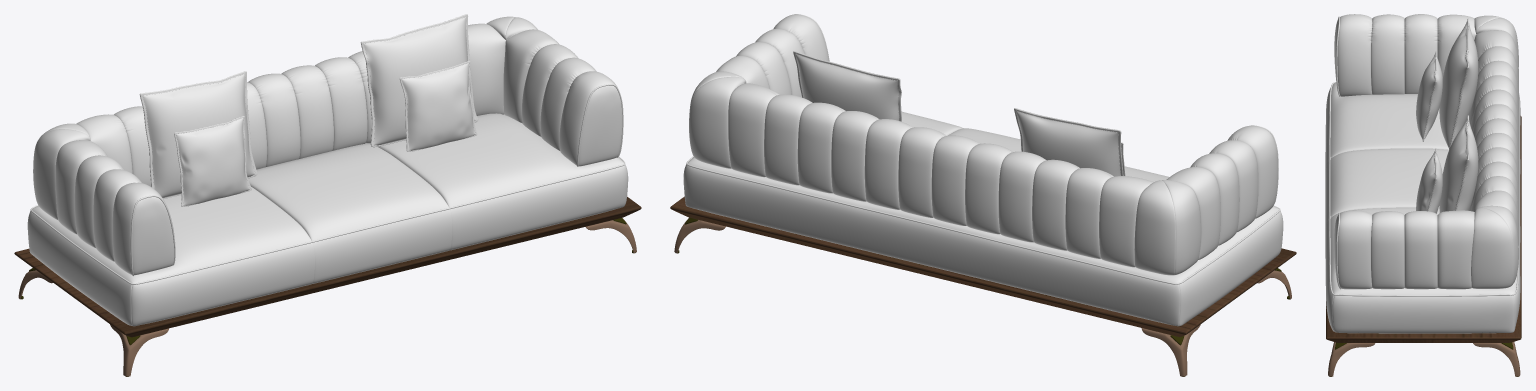
The model's file is St_Hilker_Stuttgard_3STR.glb.
3 renders of one model, left to right at view 1: azimuth 30°, elevation 25°; view 2: azimuth 150°, elevation 25°; view 3: azimuth 270°, elevation 25°, orthographic. The views are drawn at different scales.
Visible parts, largest first — view 1: St_Hilker_Stuttgard_3STR; view 2: St_Hilker_Stuttgard_3STR; view 3: St_Hilker_Stuttgard_3STR.
Boxes of the visible parts, left/top/right/bottom form: St_Hilker_Stuttgard_3STR: left=14, top=14, right=641, bottom=376; St_Hilker_Stuttgard_3STR: left=670, top=14, right=1296, bottom=376; St_Hilker_Stuttgard_3STR: left=1325, top=14, right=1521, bottom=376.
Size of the model in its own units: 2.69 by 1.01 by 1.
6 materials, 1 textured.
